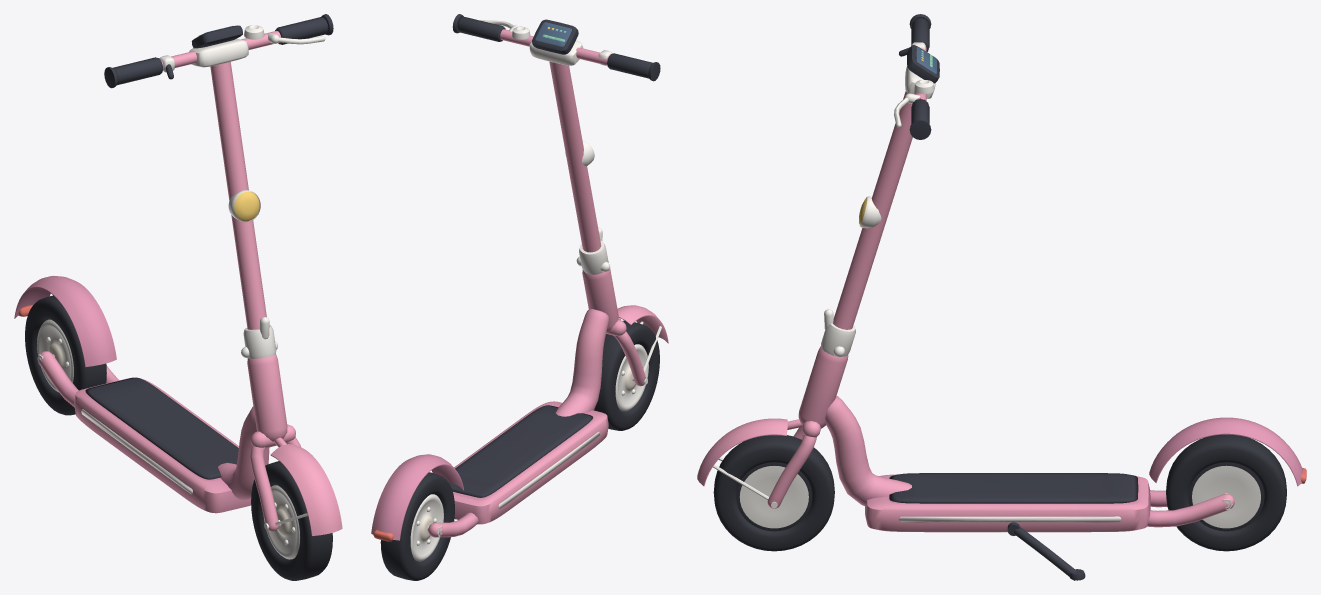
File: e_scooter_grab3d.glb
3 views of the same model, side by side, from view 1: azimuth 30°, elevation 25°; view 2: azimuth 150°, elevation 25°; view 3: azimuth 270°, elevation 25° (orthographic). The views are drawn at different scales.
Parts seen in each view (by area): view 1: e-scooter_body, e-scooter_steering, e-scooter_wheel_front, e-scooter_wheel_rear; view 2: e-scooter_body, e-scooter_steering, e-scooter_wheel_rear, e-scooter_wheel_front; view 3: e-scooter_body, e-scooter_steering, e-scooter_wheel_rear, e-scooter_wheel_front, e-scooter_kickstand.
Part boxes in pixels (left/top/right/bottom): e-scooter_body: left=14, top=276, right=287, bottom=513; e-scooter_steering: left=104, top=14, right=342, bottom=535; e-scooter_wheel_front: left=251, top=461, right=332, bottom=580; e-scooter_wheel_rear: left=25, top=295, right=106, bottom=415; e-scooter_body: left=371, top=268, right=618, bottom=541; e-scooter_steering: left=452, top=14, right=668, bottom=386; e-scooter_wheel_rear: left=380, top=472, right=454, bottom=580; e-scooter_wheel_front: left=594, top=320, right=659, bottom=430; e-scooter_body: left=798, top=346, right=1306, bottom=532; e-scooter_steering: left=697, top=14, right=939, bottom=508; e-scooter_wheel_rear: left=1166, top=434, right=1286, bottom=551; e-scooter_wheel_front: left=713, top=435, right=834, bottom=551; e-scooter_kickstand: left=1007, top=522, right=1085, bottom=580.
Bounding box in the file's own units: 0.52 × 1.12 × 1.25.
Materials: 14 (1 with a texture image).
